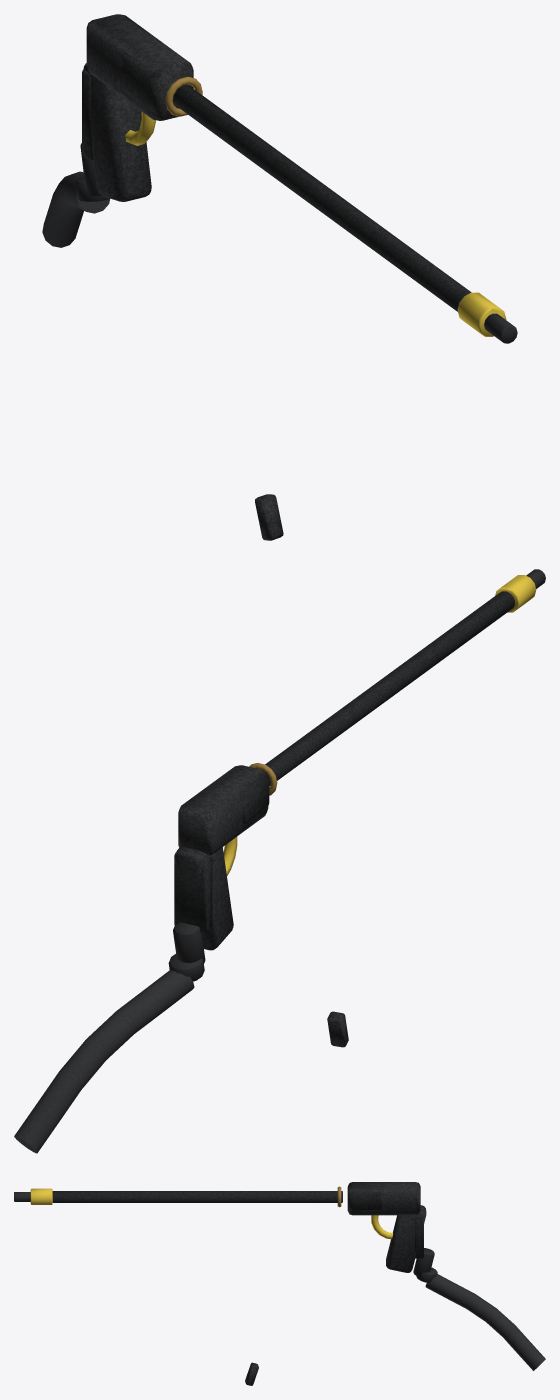
File: asset_079_pressure_washer_hose_and_wand_fp.glb
3 views of the same model, one above another, from view 1: azimuth 30°, elevation 25°; view 2: azimuth 150°, elevation 25°; view 3: azimuth 270°, elevation 25° (orthographic). The views are drawn at different scales.
Parts seen in each view (by area): view 1: MESH_WandLance, MESH_GunBody, MESH_GunGrip, MESH_WandHoseTail, MESH_GunShroud, MESH_WandTipCollar, MESH_WandTriggerBlade, MESH_GunGripStrap, MESH_WandNozzle; view 2: MESH_WandHoseTail, MESH_WandLance, MESH_GunBody, MESH_GunGrip, MESH_GunGripStrap, MESH_GunHoseInlet, MESH_GunShroud, MESH_WandTipCollar; view 3: MESH_WandLance, MESH_WandHoseTail, MESH_GunBody, MESH_GunGrip, MESH_GunShroud, MESH_GunGripStrap, MESH_WandTipCollar, MESH_GunHoseInlet.
Part boxes in pixels (left/top/right/bottom): MESH_WandLance: left=172, top=84, right=471, bottom=311; MESH_GunBody: left=86, top=14, right=191, bottom=120; MESH_GunGrip: left=83, top=63, right=151, bottom=201; MESH_WandHoseTail: left=42, top=171, right=109, bottom=247; MESH_GunShroud: left=122, top=52, right=193, bottom=111; MESH_WandTipCollar: left=457, top=292, right=506, bottom=336; MESH_WandTriggerBlade: left=255, top=494, right=283, bottom=540; MESH_GunGripStrap: left=82, top=69, right=93, bottom=160; MESH_WandNozzle: left=484, top=313, right=517, bottom=343; MESH_WandHoseTail: left=14, top=970, right=194, bottom=1153; MESH_WandLance: left=265, top=591, right=514, bottom=786; MESH_GunBody: left=178, top=765, right=268, bottom=855; MESH_GunGrip: left=175, top=847, right=233, bottom=950; MESH_GunGripStrap: left=174, top=852, right=212, bottom=933; MESH_GunHoseInlet: left=173, top=922, right=205, bottom=963; MESH_GunShroud: left=242, top=774, right=269, bottom=823; MESH_WandTipCollar: left=495, top=575, right=536, bottom=612; MESH_WandLance: left=52, top=1191, right=342, bottom=1202; MESH_WandHoseTail: left=425, top=1274, right=545, bottom=1370; MESH_GunBody: left=347, top=1182, right=420, bottom=1215; MESH_GunGrip: left=386, top=1205, right=426, bottom=1272; MESH_GunShroud: left=349, top=1191, right=381, bottom=1210; MESH_GunGripStrap: left=414, top=1215, right=423, bottom=1258; MESH_WandTipCollar: left=30, top=1188, right=52, bottom=1204; MESH_GunHoseInlet: left=413, top=1248, right=434, bottom=1277.
Size of the model in its own units: 0.1327 by 0.4544 by 1.09.
Materials: 5 (4 with a texture image).
